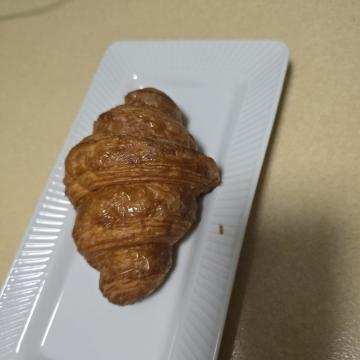croissant: (73, 131, 320, 304)
